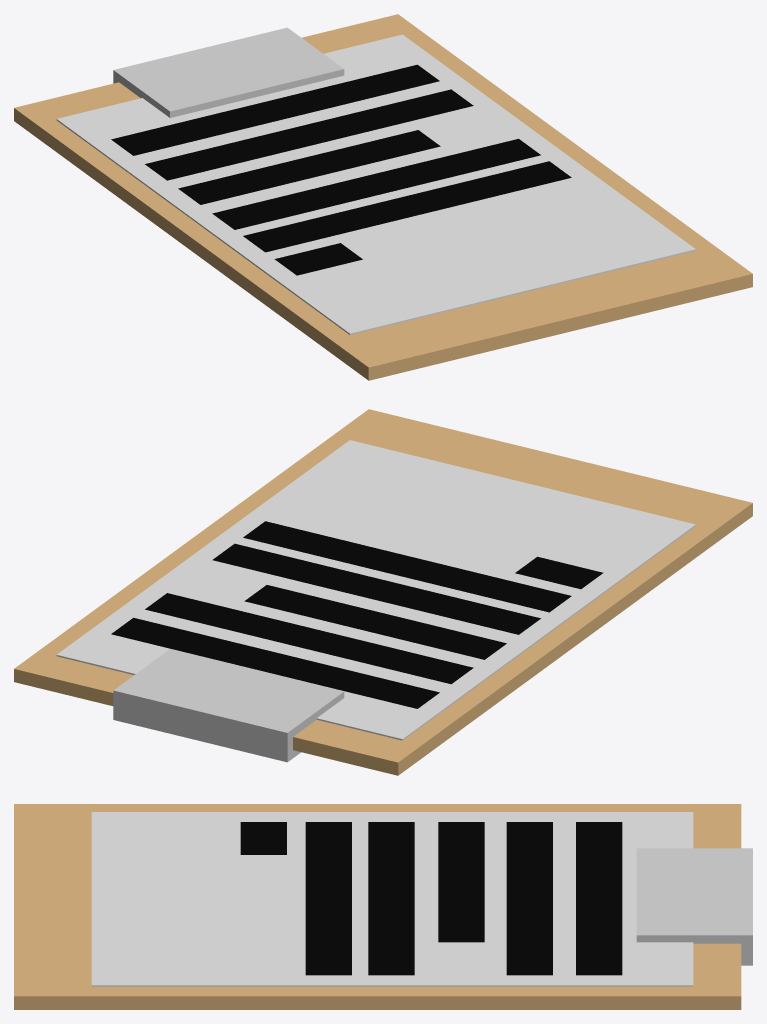
File: P_Clipboard.fbx
The picture shows the model from 3 angles, top to bottom: view 1: azimuth 30°, elevation 25°; view 2: azimuth 150°, elevation 25°; view 3: azimuth 270°, elevation 25°; orthographic projection. The views are drawn at different scales.
Parts seen in each view (by area): view 1: P_Clipboard; view 2: P_Clipboard; view 3: P_Clipboard.
Part boxes in pixels (left/top/right/bottom): P_Clipboard: left=14, top=14, right=752, bottom=380; P_Clipboard: left=14, top=409, right=752, bottom=775; P_Clipboard: left=14, top=804, right=752, bottom=1009.
Bounding box in the file's own units: 130 × 212 × 9.54.
